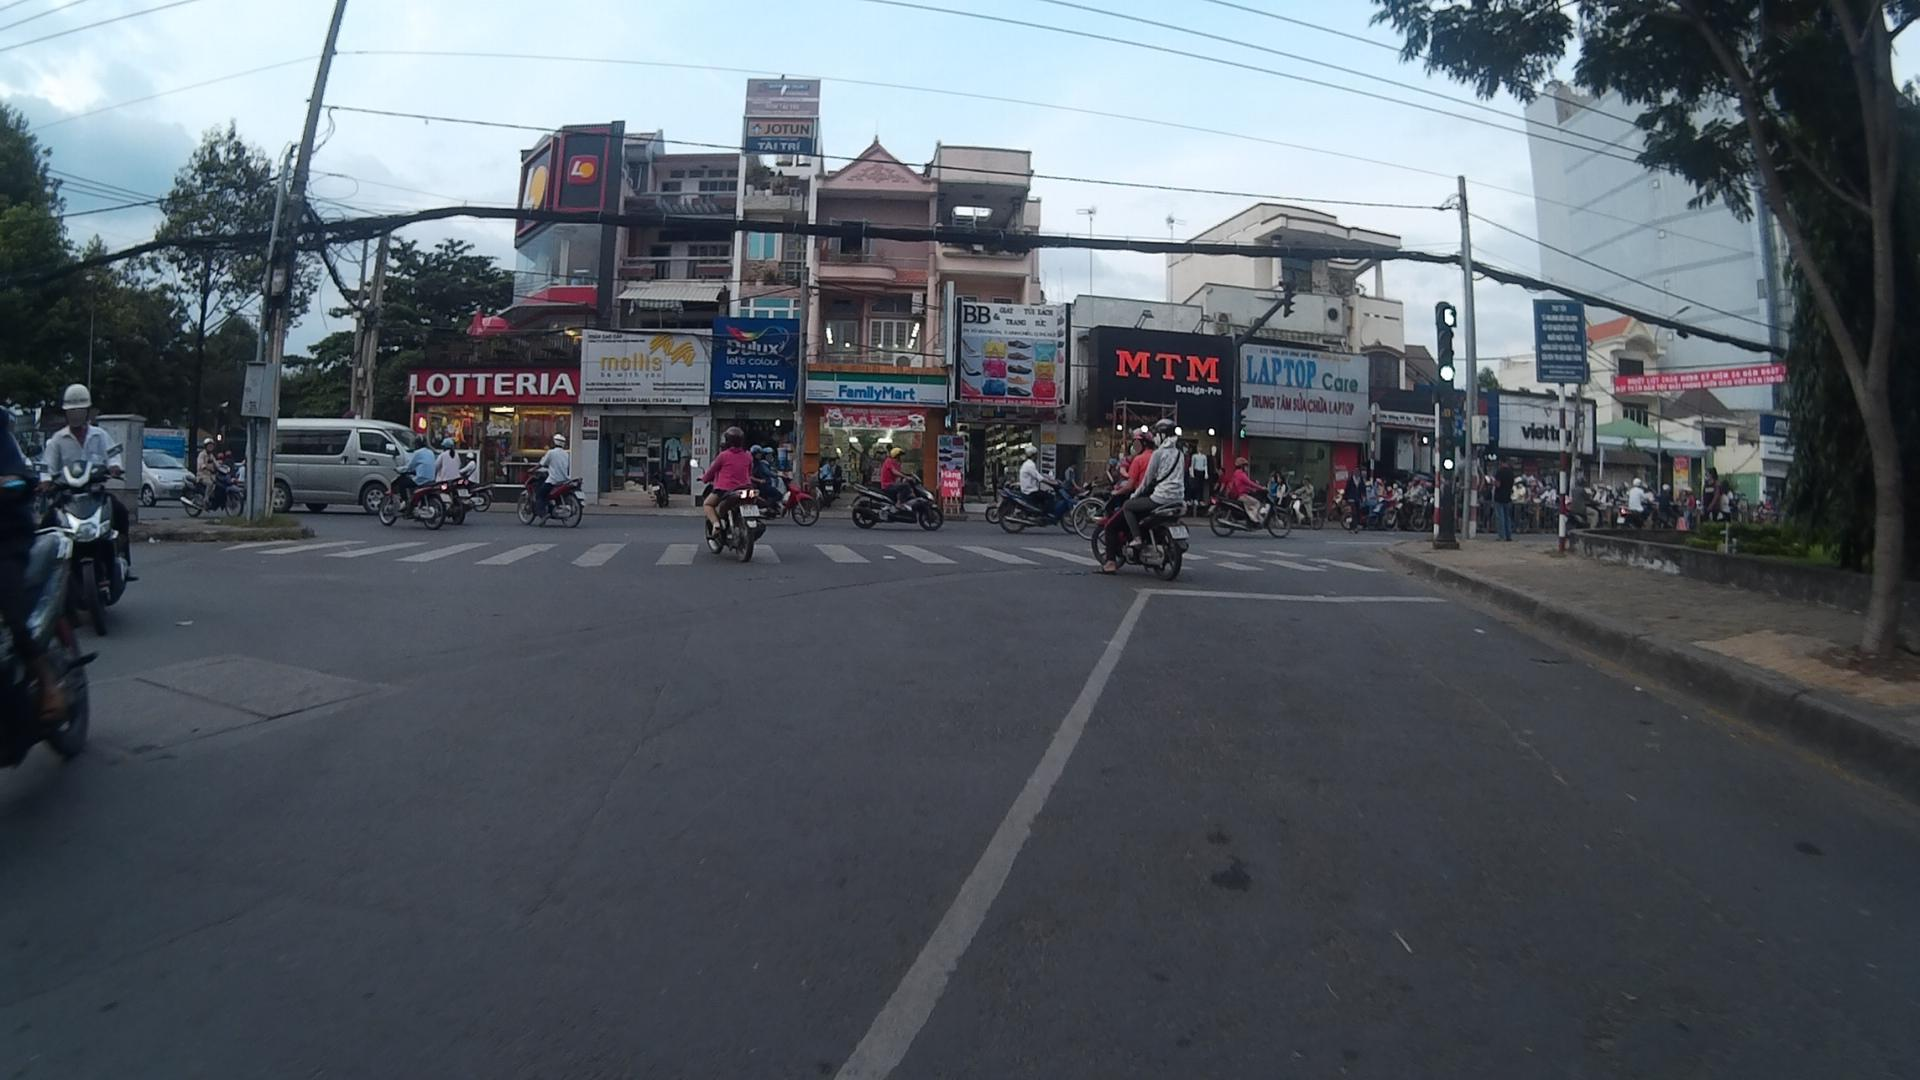vinyl banner: (1602, 359, 1818, 404), (731, 109, 831, 158)
